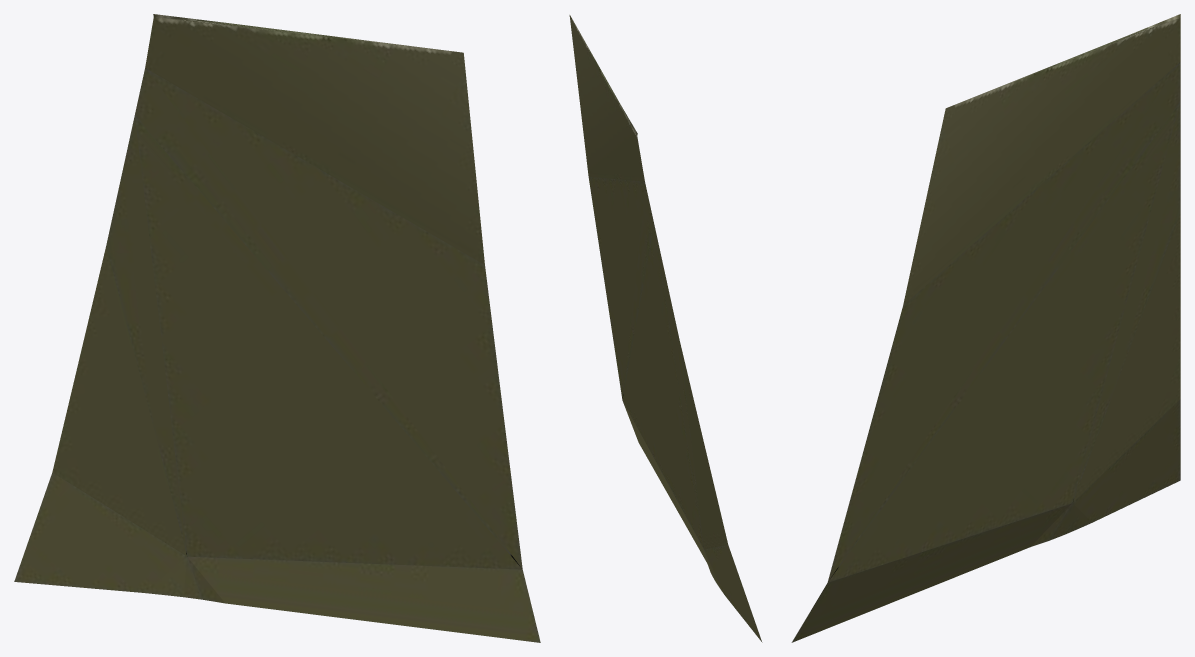
The picture shows the model from 3 angles, left to right: view 1: azimuth 30°, elevation 25°; view 2: azimuth 150°, elevation 25°; view 3: azimuth 270°, elevation 25°; orthographic projection. The views are drawn at different scales.
Bounding box in the file's own units: 1.92 × 2.95 × 1.95.
Materials: 2 (2 with a texture image).
